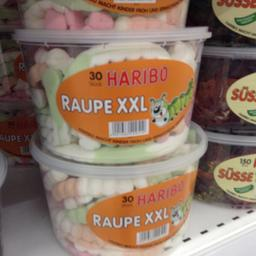candy: (12, 28, 222, 164), (28, 148, 212, 254)
